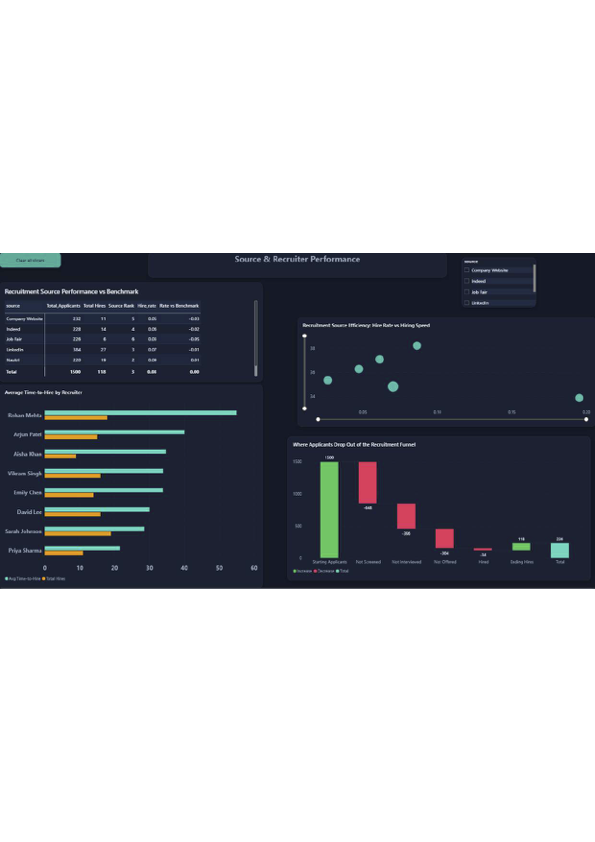

The dashboard page shown, as its layout file describes it:
{"tool":"powerbi","page":{"name":"Source & Recruiter Performance","canvas":[1920,1080],"ordinal":1},"visuals":[{"type":"textbox","box":[480,0,960,80],"z":0},{"type":"pivotTable","title":"Recruitment Source Performance vs Benchmark","fields":{"Rows":["applicants.source"],"Values":["Measure.Total_Applicants","Measure.Total Hires","Measure.Source Rank","Measure.Hire_rate","Measure.Rate vs Benchmark"]},"box":[0,96,848,320],"z":1000},{"type":"clusteredBarChart","title":"Average Time-to-Hire by Recruiter","fields":{"Category":["applicants.recruiter"],"Y":["Measure.Avg Time-to-Hire","Measure.Total Hires"]},"box":[0,424,848,656],"z":2000},{"type":"scatterChart","title":"Recruitment Source Efficiency: Hire Rate vs Hiring Speed","fields":{"Category":["applicants.source"],"Size":["Measure.Total_Applicants"],"X":["Measure.Hire_rate"],"Y":["Measure.Avg Time-to-Hire"]},"box":[960,208,960,352],"z":5000},{"type":"slicer","fields":{"Values":["funnel_events.source"]},"box":[1488,16,240,160],"z":6000},{"type":"actionButton","box":[0,0,200,50],"z":7000},{"type":"waterfallChart","title":"Where Applicants Drop Out of the Recruitment Funnel","fields":{"Category":["Recruitment Waterfall Final.Step"],"Y":["Sum(Recruitment Waterfall Final.Applicants)"]},"box":[928,592,976,464],"z":8000}]}

Visuals, with their boxes on the page's 1920x1080 design canvas (x1, y1, x2, y2). These are canvas units, not pixel positions in the 595x842 screenshot, which may show the page scaled, cropped or inside an application window:
textbox: <box>480,0,1440,80</box>
"Recruitment Source Performance vs Benchmark" pivotTable: <box>0,96,848,416</box>
"Average Time-to-Hire by Recruiter" clusteredBarChart: <box>0,424,848,1080</box>
"Recruitment Source Efficiency: Hire Rate vs Hiring Speed" scatterChart: <box>960,208,1920,560</box>
slicer - funnel_events.source: <box>1488,16,1728,176</box>
actionButton: <box>0,0,200,50</box>
"Where Applicants Drop Out of the Recruitment Funnel" waterfallChart: <box>928,592,1904,1056</box>
